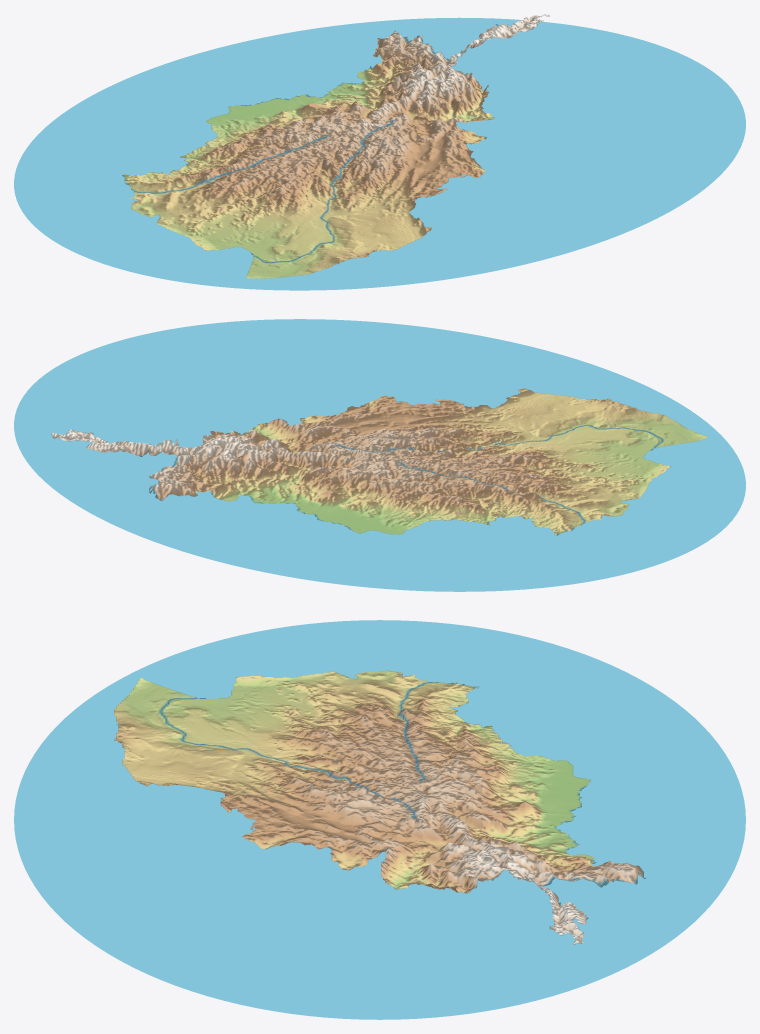
The model's file is AFG-terrain.glb.
3 views of the same model, one above another, from view 1: azimuth 30°, elevation 25°; view 2: azimuth 150°, elevation 25°; view 3: azimuth 270°, elevation 25° (orthographic). The views are drawn at different scales.
Visible parts, largest first — view 1: Relevo com hidrografia; view 2: Relevo com hidrografia; view 3: Relevo com hidrografia.
Boxes of the visible parts, box(x1,y1,x2,y2) form: Relevo com hidrografia: box(14, 14, 745, 290); Relevo com hidrografia: box(14, 319, 745, 591); Relevo com hidrografia: box(14, 620, 745, 1019).
Bounding box in the file's own units: 2.17 × 0.0833 × 1.68.
Materials: 2 (1 with a texture image).
